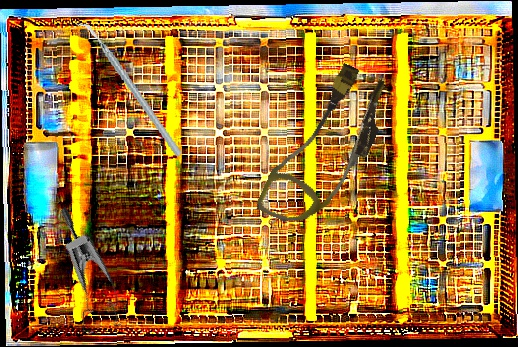Cannula: (254, 54, 399, 242)
Chopper: (74, 4, 184, 173)
Speculum: (15, 205, 146, 346)
